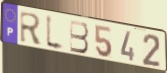2: (141, 33, 162, 69)
4: (120, 30, 136, 62)
5: (93, 23, 113, 59)
B: (69, 19, 90, 55)
L: (45, 13, 66, 54)
R: (19, 11, 44, 47)
